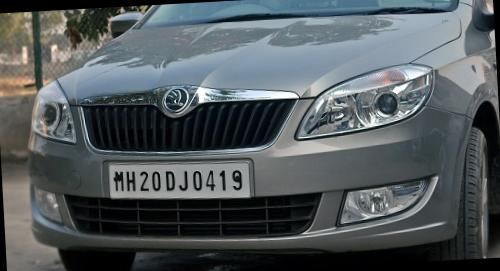plate: (100, 147, 262, 216)
